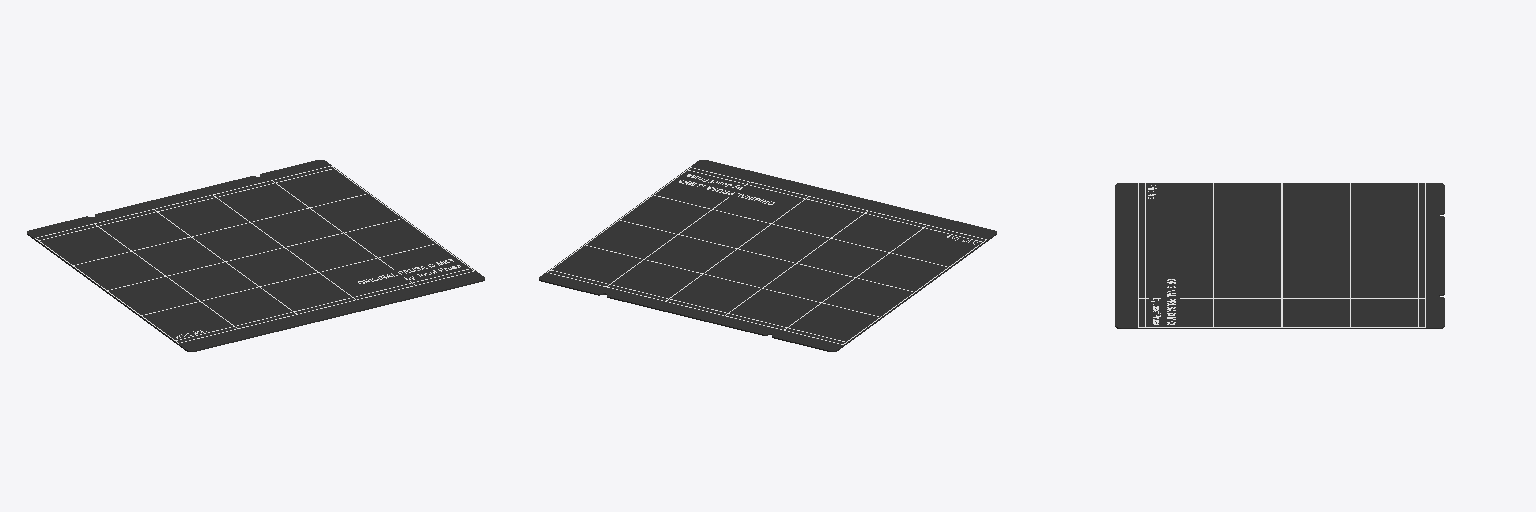
The model's file is Sheet.obj.
3 views of the same model, side by side, from view 1: azimuth 30°, elevation 25°; view 2: azimuth 150°, elevation 25°; view 3: azimuth 270°, elevation 25° (orthographic).
Parts seen in each view (by area): view 1: patch0, patch1; view 2: patch0, patch1; view 3: patch0, patch1.
Part boxes in pixels (left/top/right/bottom): patch0: left=27, top=160, right=484, bottom=351; patch1: left=35, top=166, right=474, bottom=343; patch0: left=539, top=160, right=996, bottom=351; patch1: left=547, top=167, right=986, bottom=344; patch0: left=1115, top=183, right=1444, bottom=328; patch1: left=1138, top=183, right=1425, bottom=327.
Size of the model in its own units: 252 by 1.01 by 241.